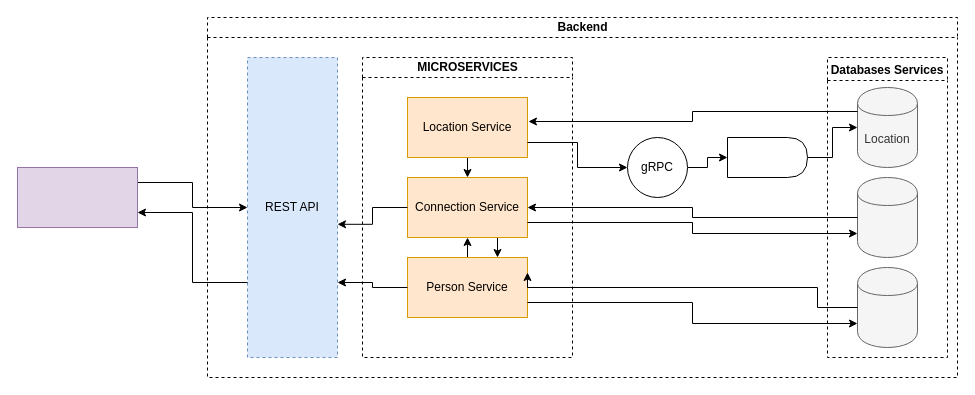
Image size: 975x395. Some labels were removed from this diagram. Here are the shapes that lost their labels. From the top down, the centre of each, then its label:
[767,157]: Kafka
[77,197]: Front-End
[887,217]: Connection
[887,307]: Person
